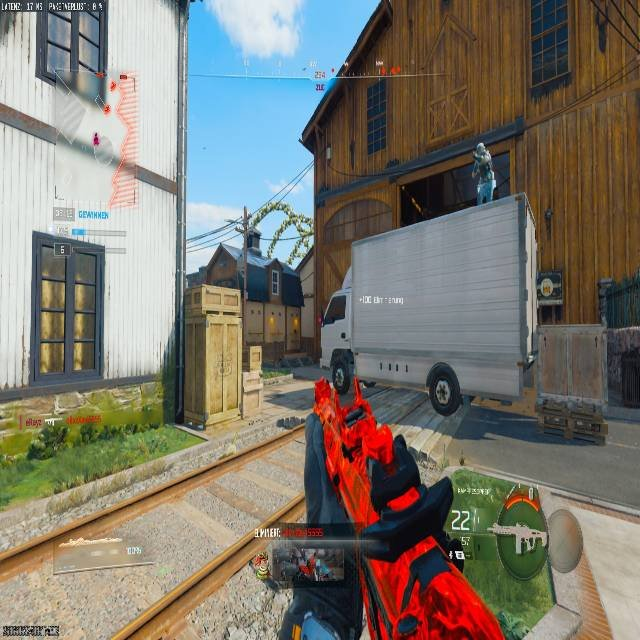head: (476, 142, 485, 153)
player: (327, 338, 357, 392), (471, 142, 495, 203)
